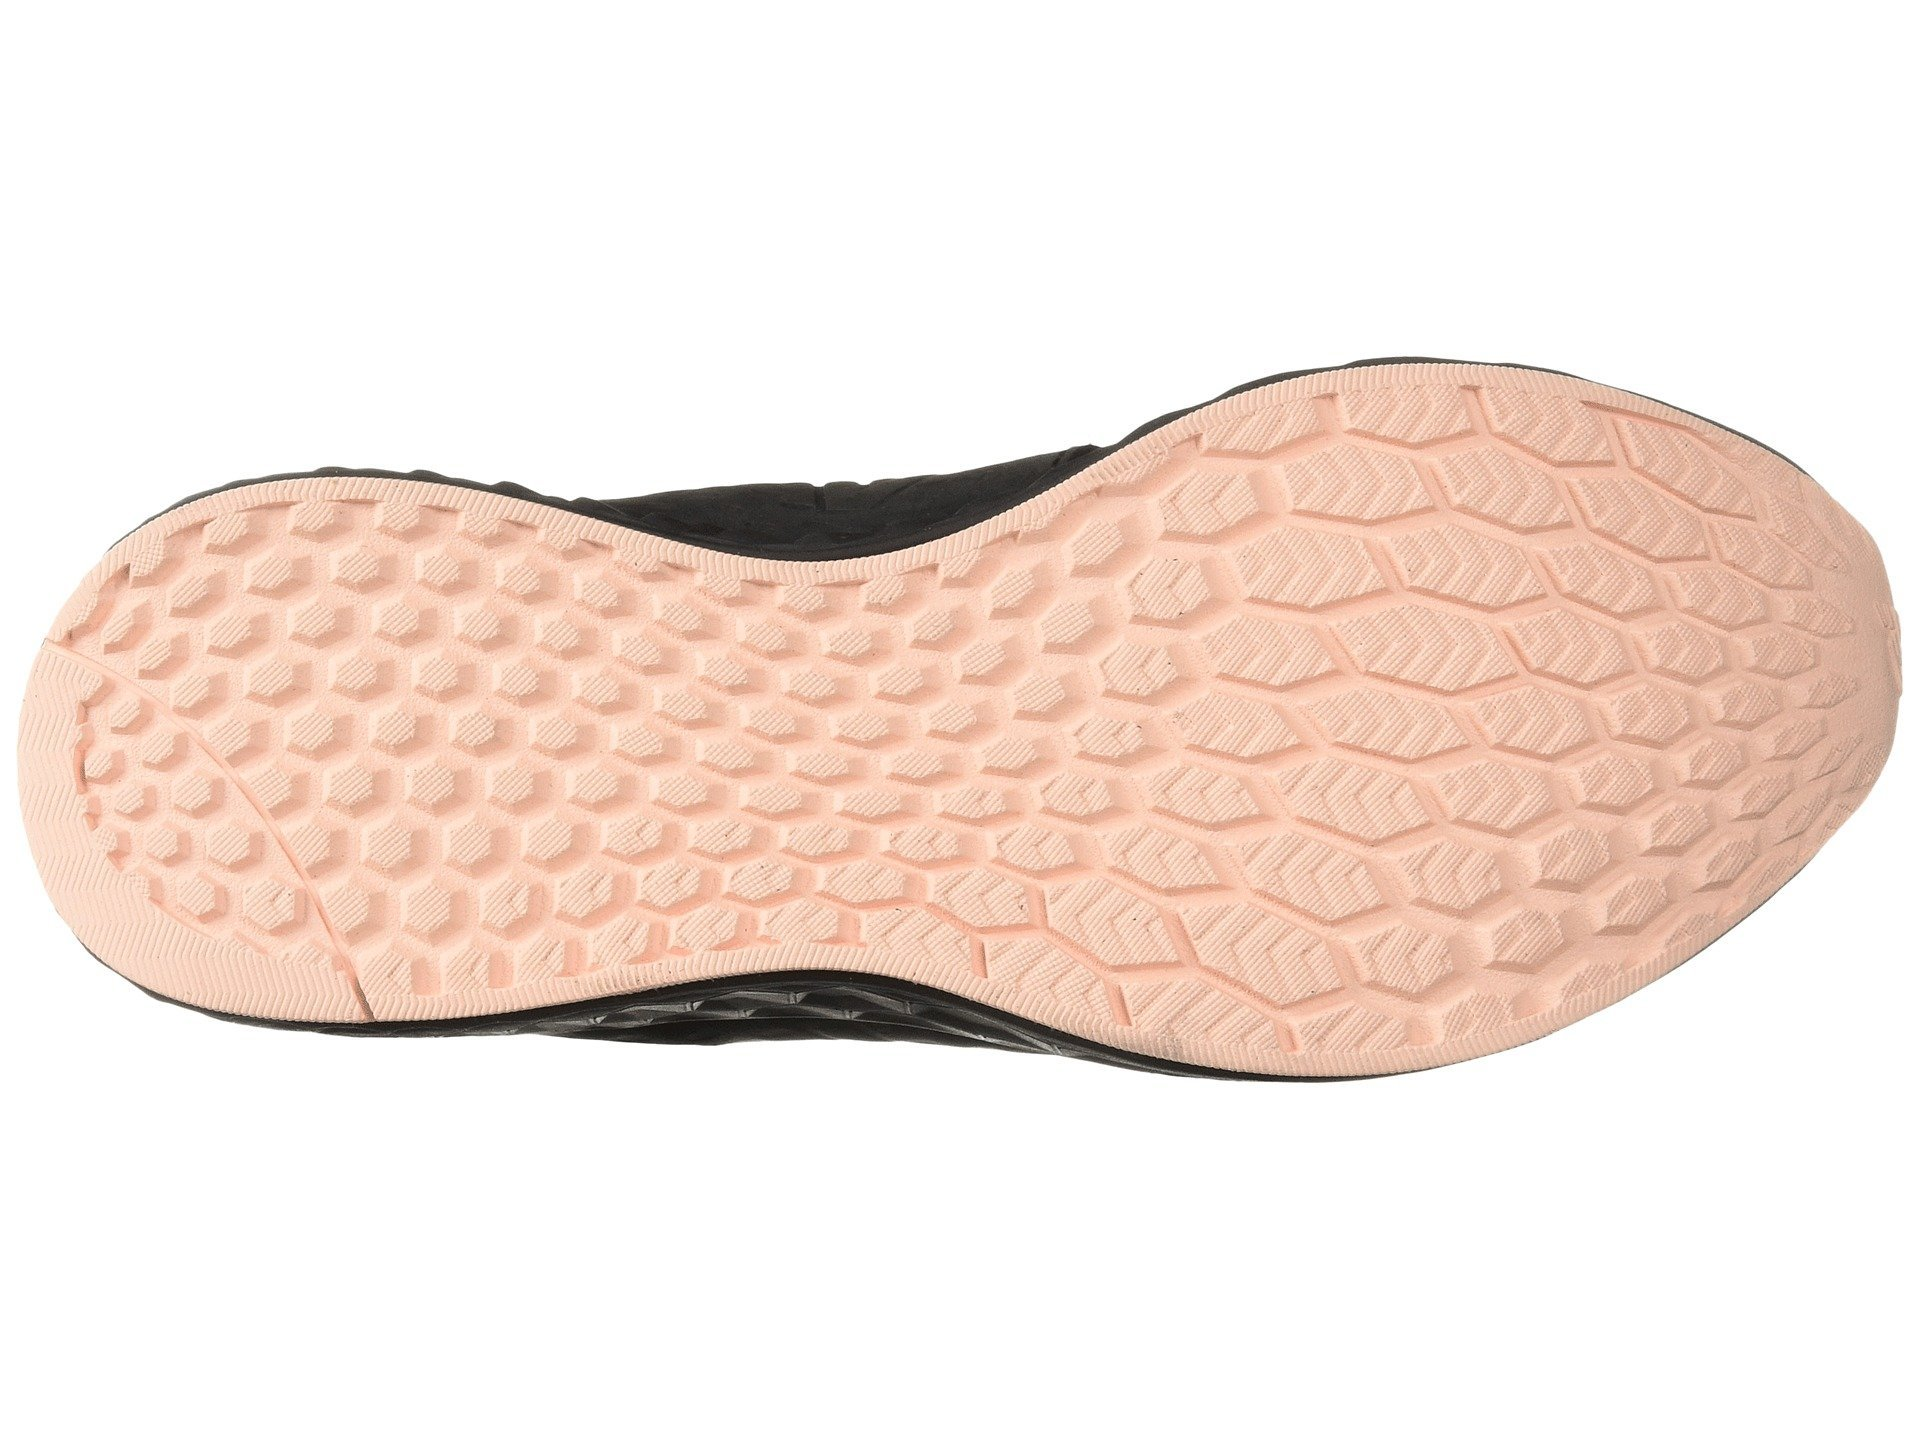chevron: (1281, 597, 1677, 877), (739, 833, 1104, 994)
line: (221, 567, 605, 862), (1281, 597, 1677, 877), (739, 833, 1104, 994)
polygon: (221, 567, 605, 862), (1281, 597, 1677, 877), (739, 833, 1104, 994)
